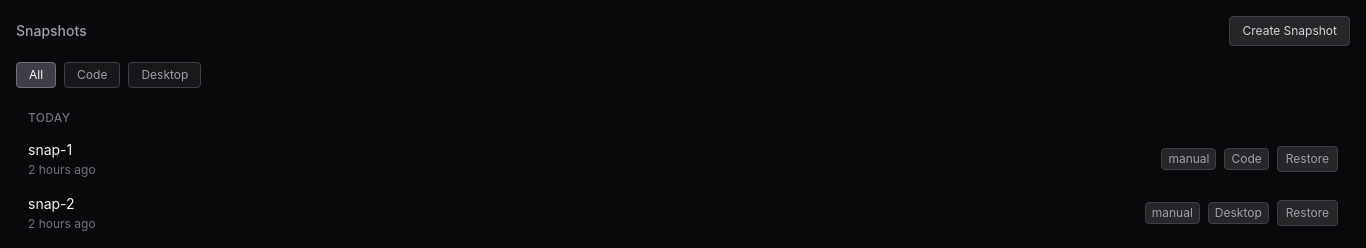
Test: SnapshotsView › filter tab 'Desktop' filters to desktop snapshots only
Click the button "Desktop": click(165, 75) 128,62 -> 201,88
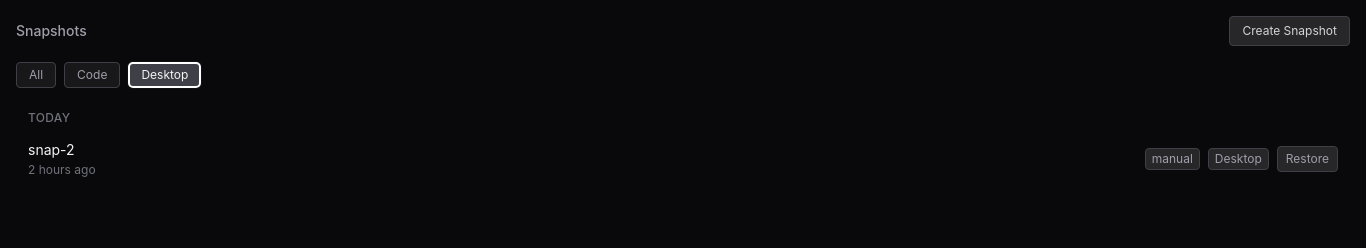
Check: the text "snap-2" is shown, box 28,141 -> 75,158
Check: the text "snap-1" is gone
